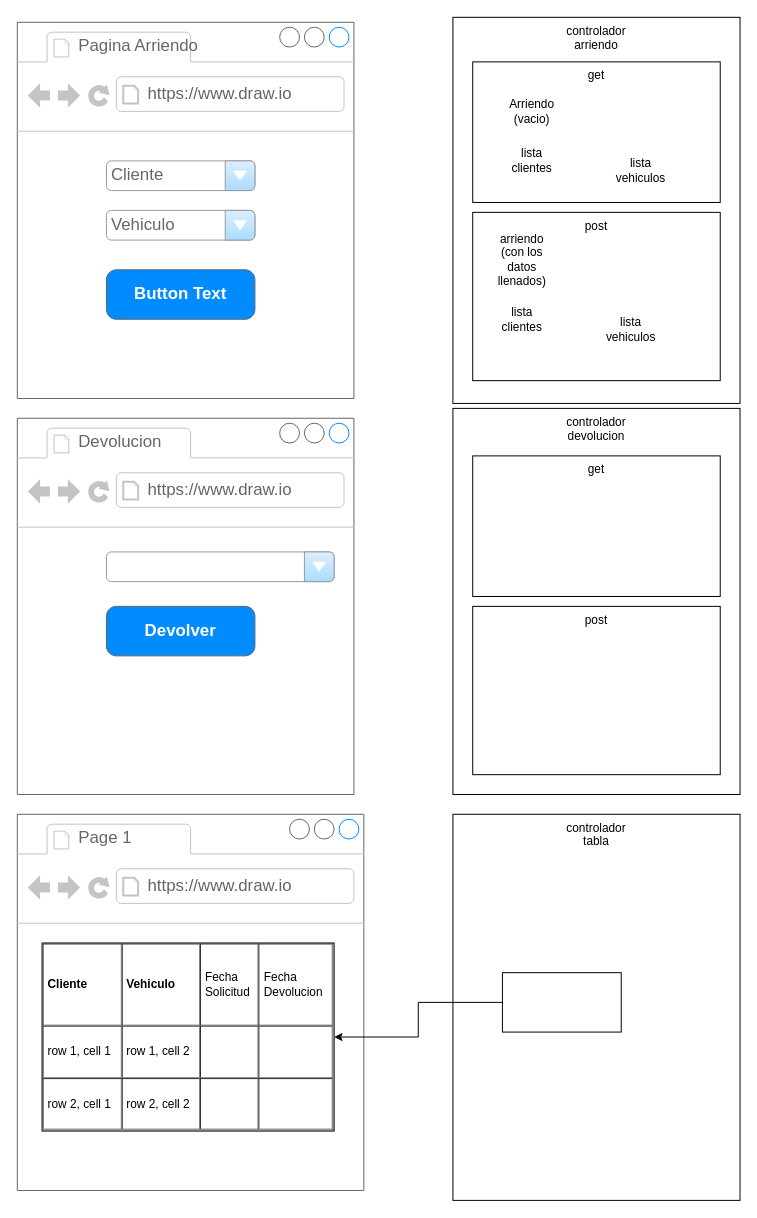
This 757x1218 diagram has some shape labels left out. The centre of each missing label's shape, as x and y in pixels:
"Cliente - Vehiculo" goes at [219,566].
"Lista Arriendo" goes at [561,1002].
